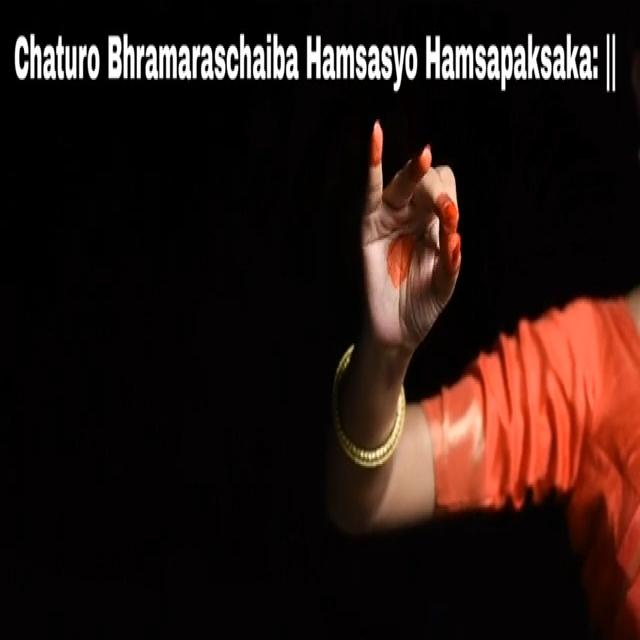Bhramara: (332, 110, 483, 344)
bangle: (323, 356, 415, 475)
text: (8, 28, 624, 105)
